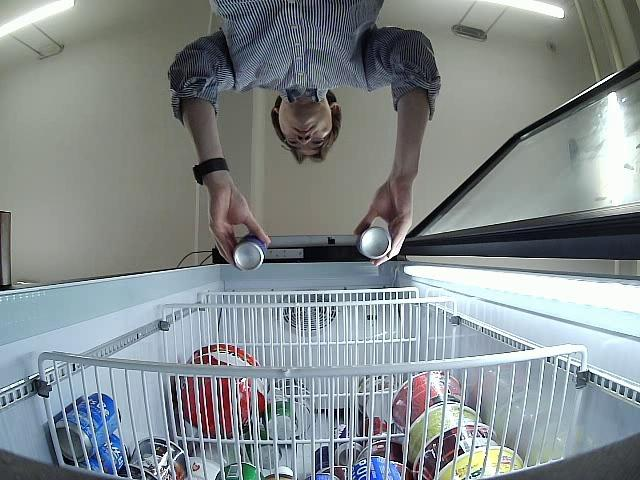00_hand: (355, 180, 413, 266), (207, 189, 273, 264)
16_hot6: (232, 232, 268, 271)
